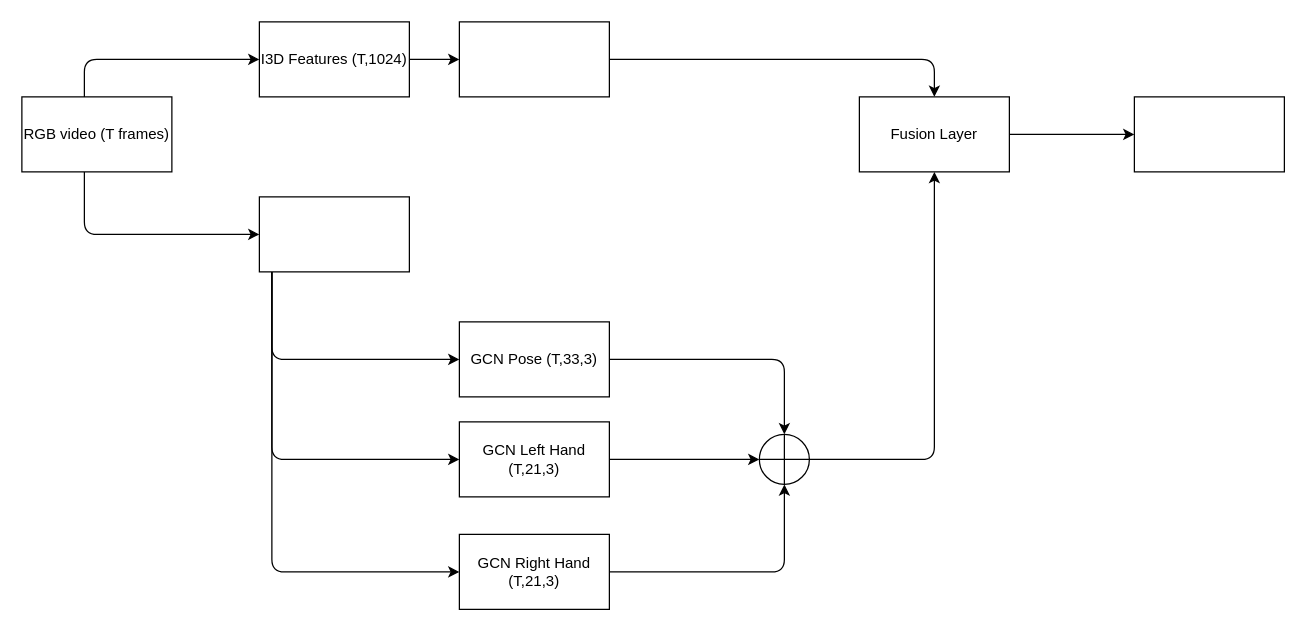
The diagram is 1306 pixels wide and 631 high, and some of its shapes have lost their labels. Each missing label, with the centre of its shape:
Encoder/Decoder: pixel 1208 134
Mediapipe Pose Extractor (T,75,3): pixel 333 234
Tranformer Encoder: pixel 533 59
